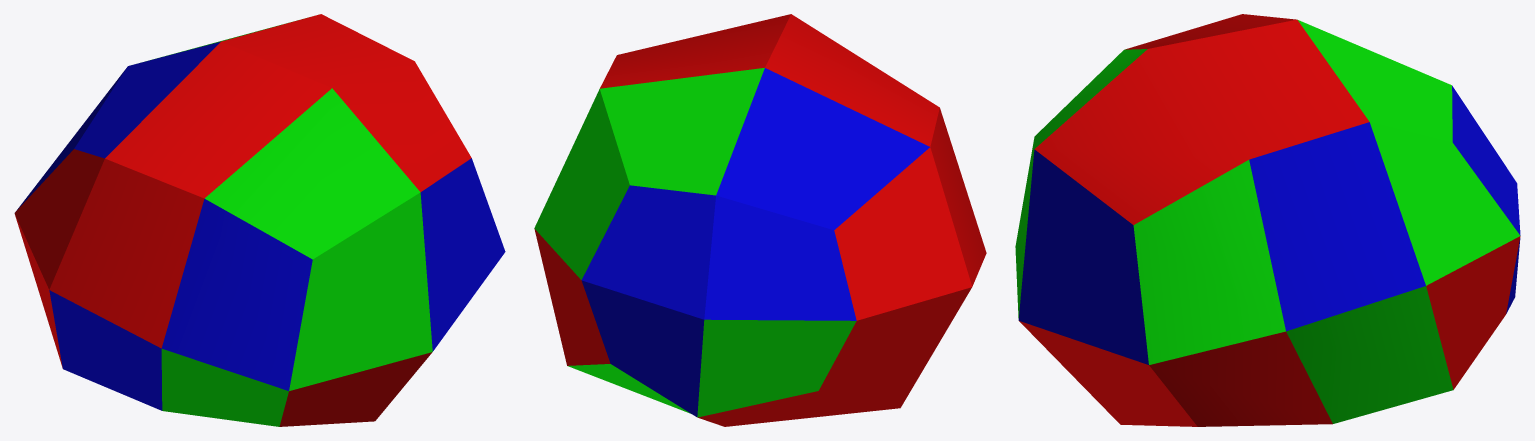
File: Bush_C_02.fbx
The picture shows the model from 3 angles, left to right: view 1: azimuth 30°, elevation 25°; view 2: azimuth 150°, elevation 25°; view 3: azimuth 270°, elevation 25°; orthographic projection. The views are drawn at different scales.
Visible parts, largest first — view 1: Bush_C_02; view 2: Bush_C_02; view 3: Bush_C_02.
Boxes of the visible parts, x1,y1,x2,y2 form: Bush_C_02: (14, 14, 505, 426); Bush_C_02: (534, 14, 986, 426); Bush_C_02: (1015, 14, 1520, 426).
Size of the model in its own units: 1.36 by 1.08 by 1.34.
